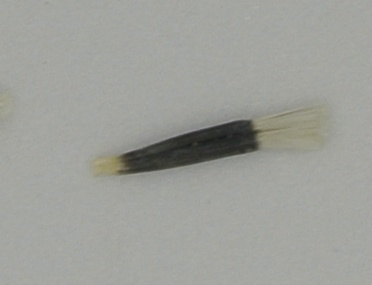เมล็ดดีติดกัน: (89, 101, 325, 181)
